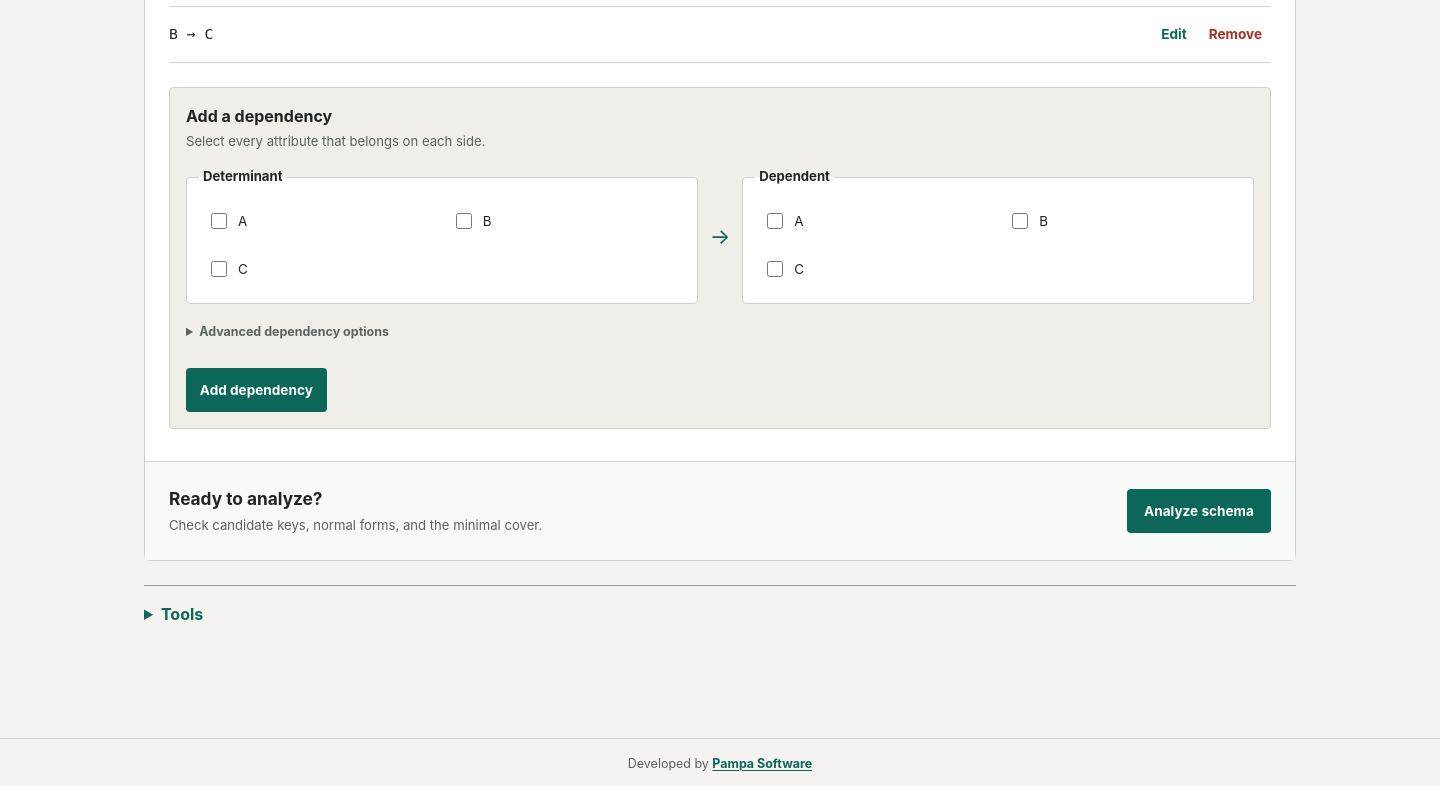
it: isolated demo route › keeps dirty and stale distinct after a real analysis
(page scrolled)
Click the button "Analyze schema" at (1199, 511), box [1127,489,1271,533]
(page scrolled)
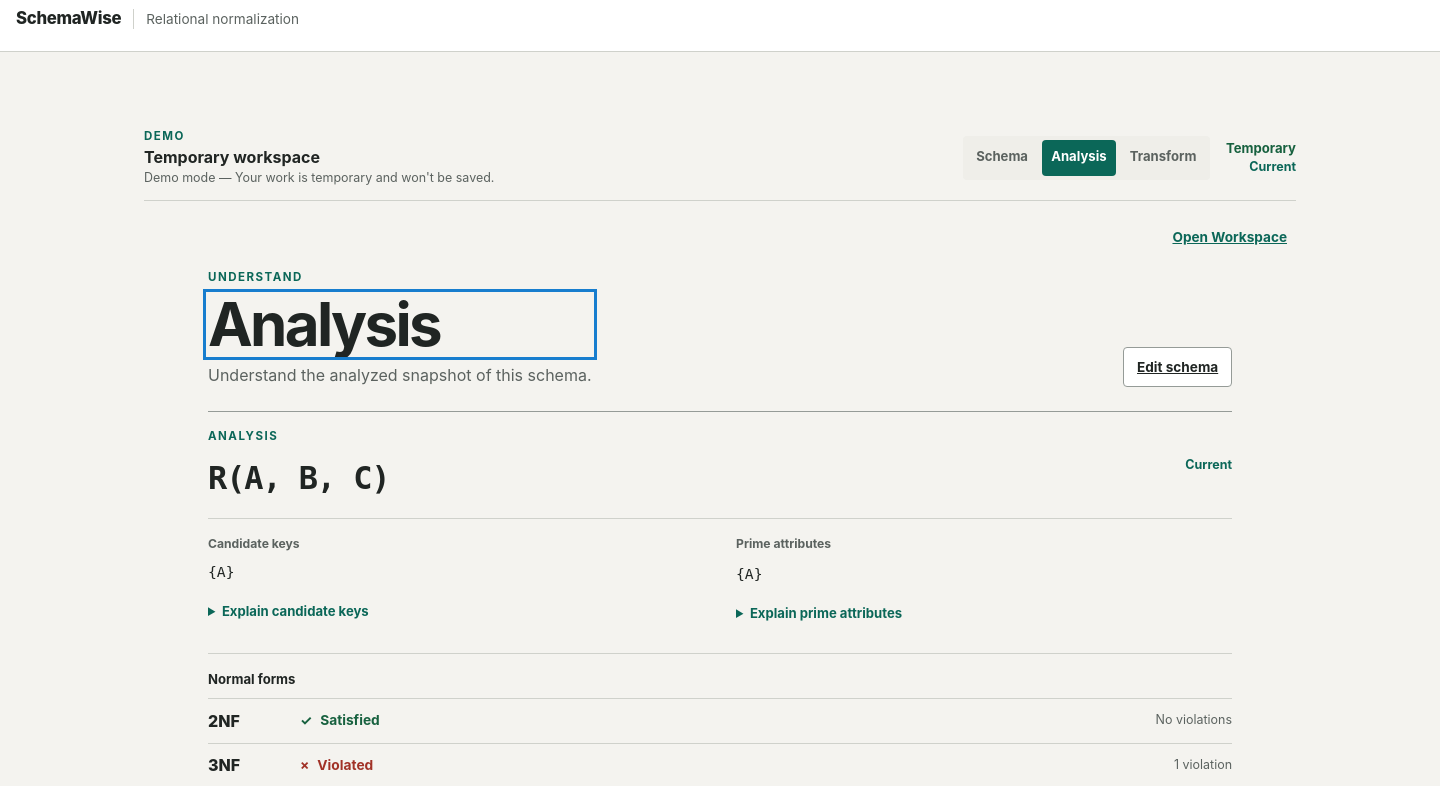
Expected: the heading "Analysis" is shown, [208,288,440,360]
Click the link "Edit schema" at (1178, 368), box [1123,348,1232,388]
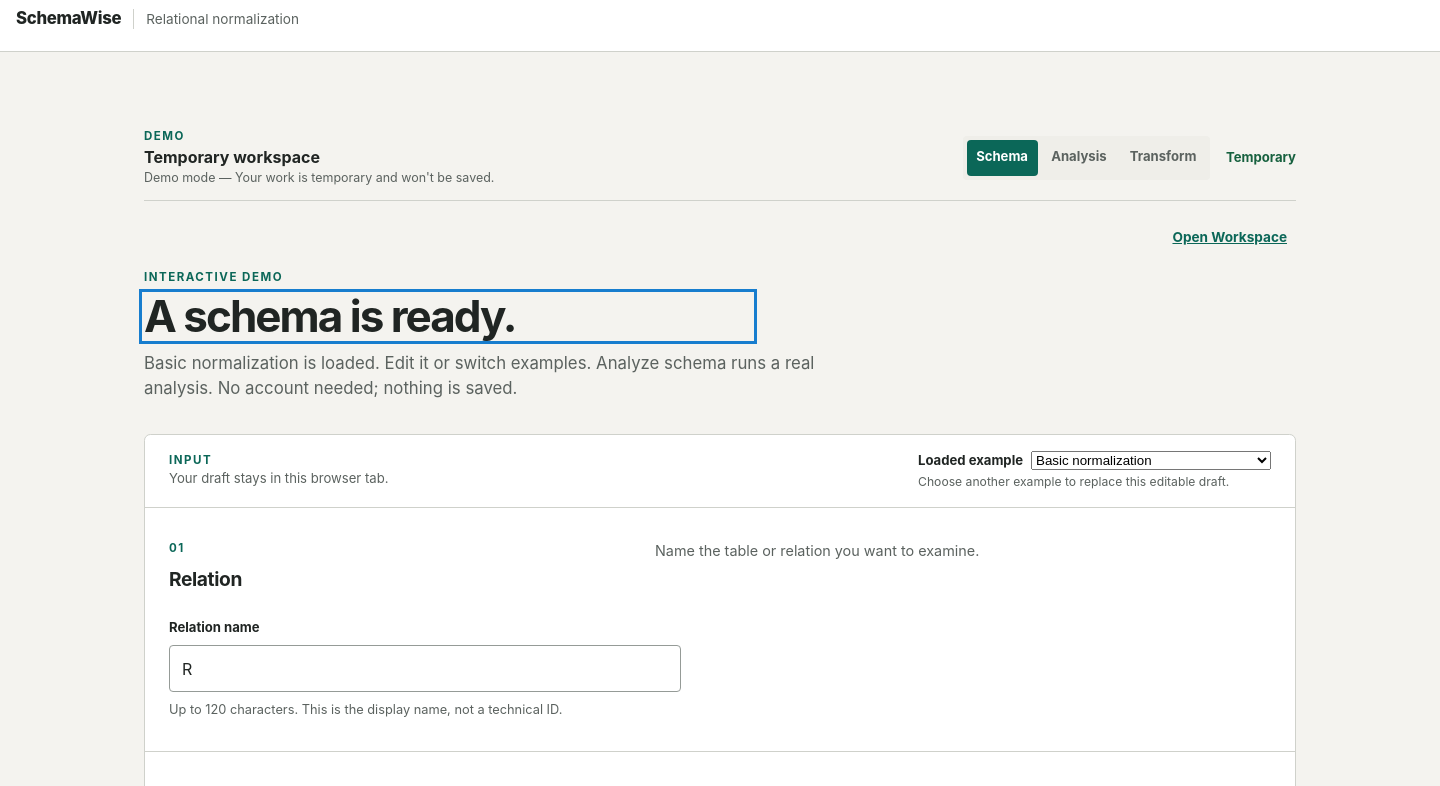
Type " changed" into the field labelled "Relation name" at (425, 669), box [169,645,681,692]
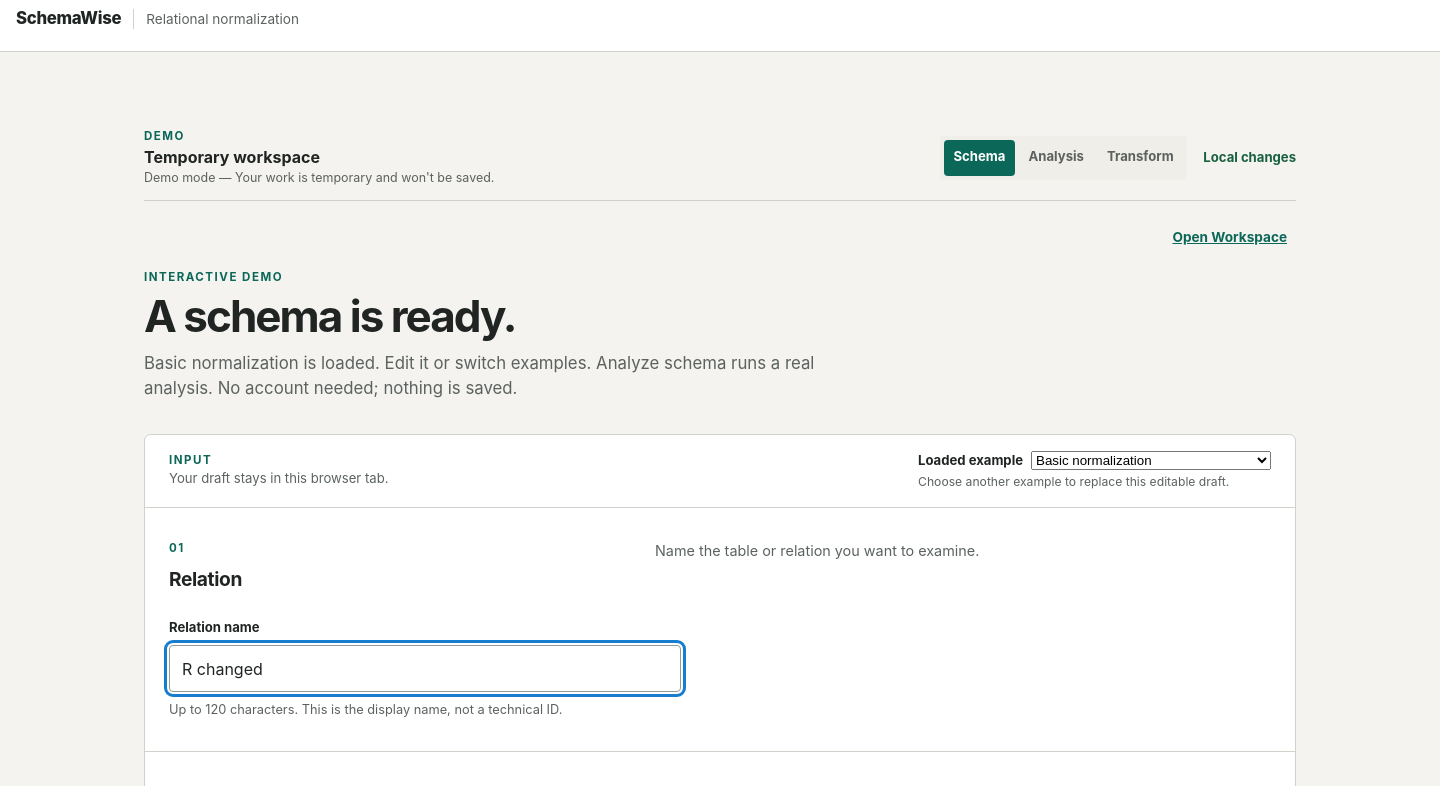
Click the link "Analysis" at (1056, 156), box [1028,148,1084,164]
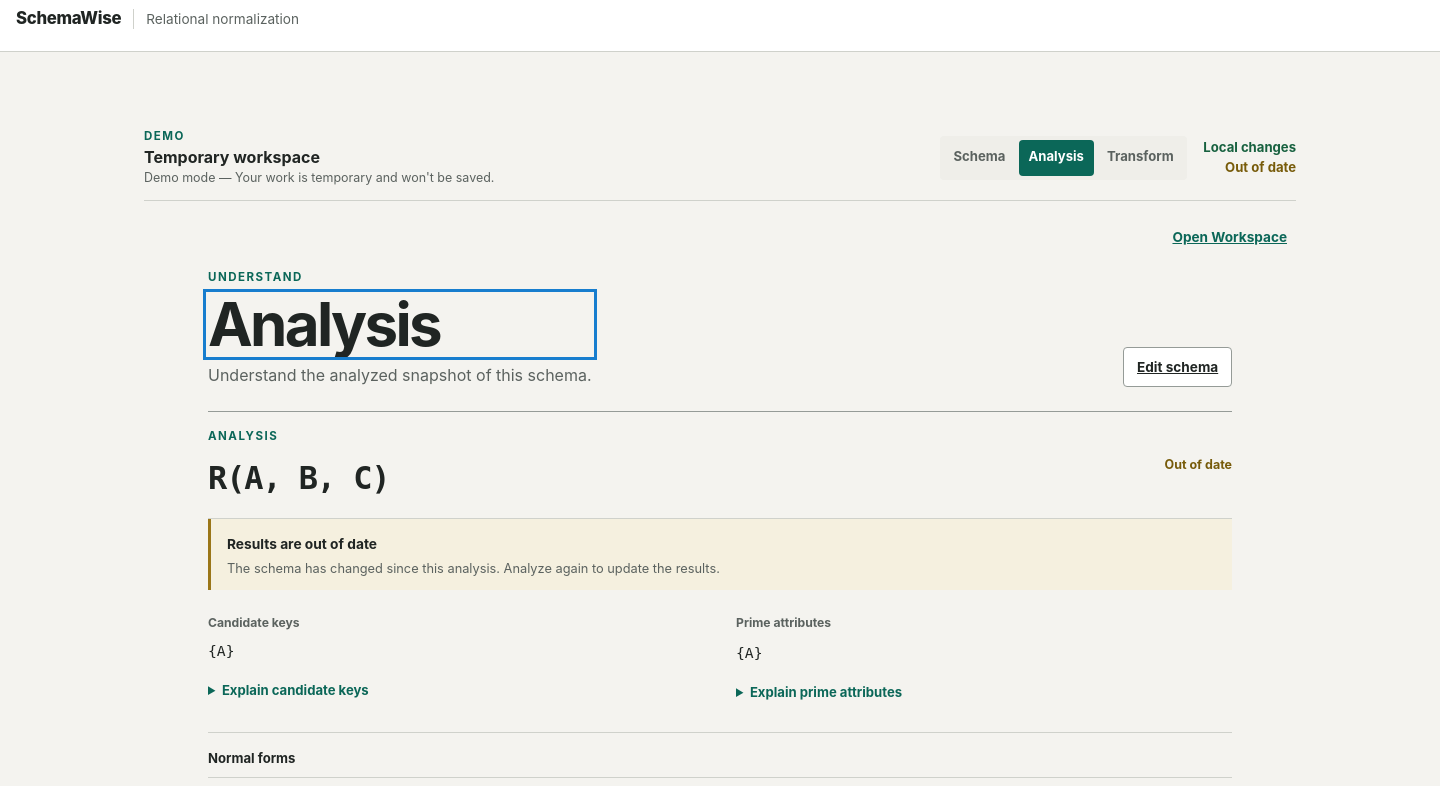
Expected: the text "Local changes" is shown, [1203,139,1296,155]
Expected: the text "Results are out of date" is shown, [227,536,377,552]
